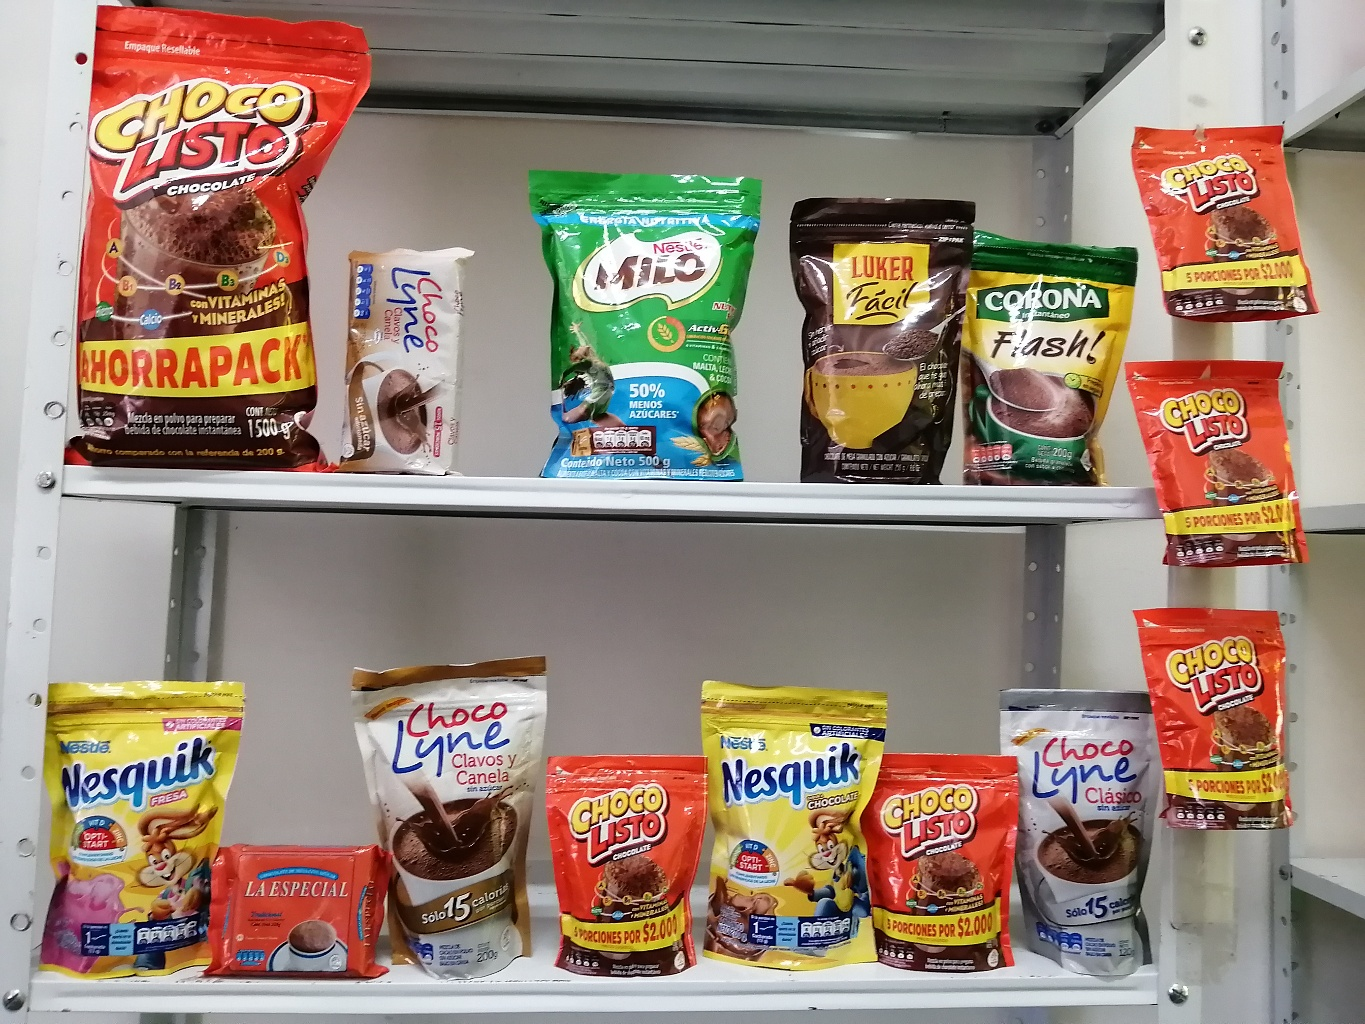COL0170103DYP1,500: (67, 8, 376, 475)
COL0170205DYP50000: (508, 153, 763, 487)
COL0170303DYP20000: (696, 671, 885, 968)
COL0170305DYP20000: (33, 674, 247, 989)
